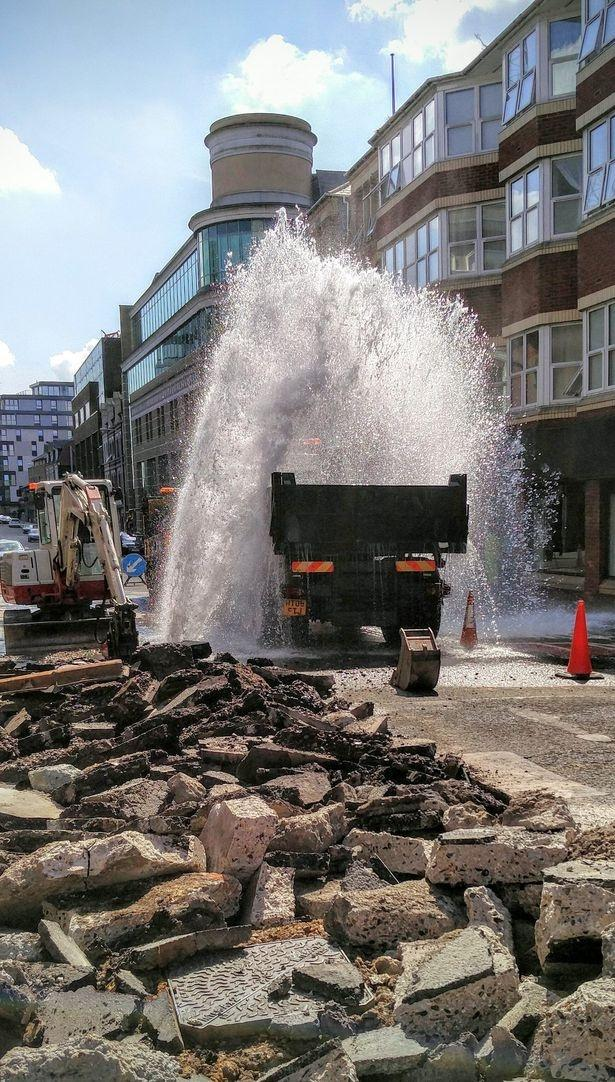pipe burst: (152, 213, 543, 652)
